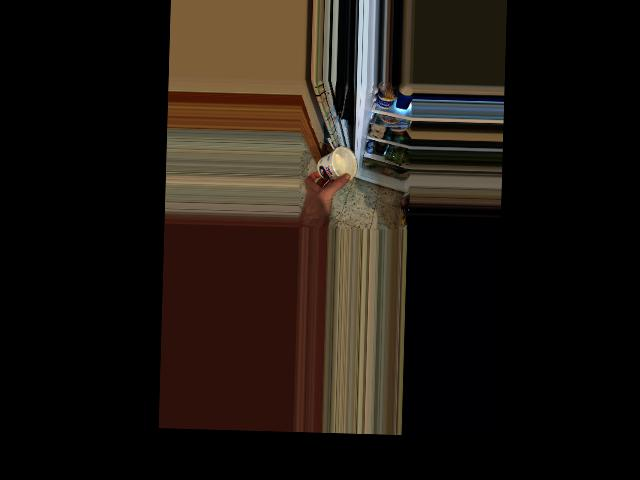cotage: (318, 147, 358, 187)
